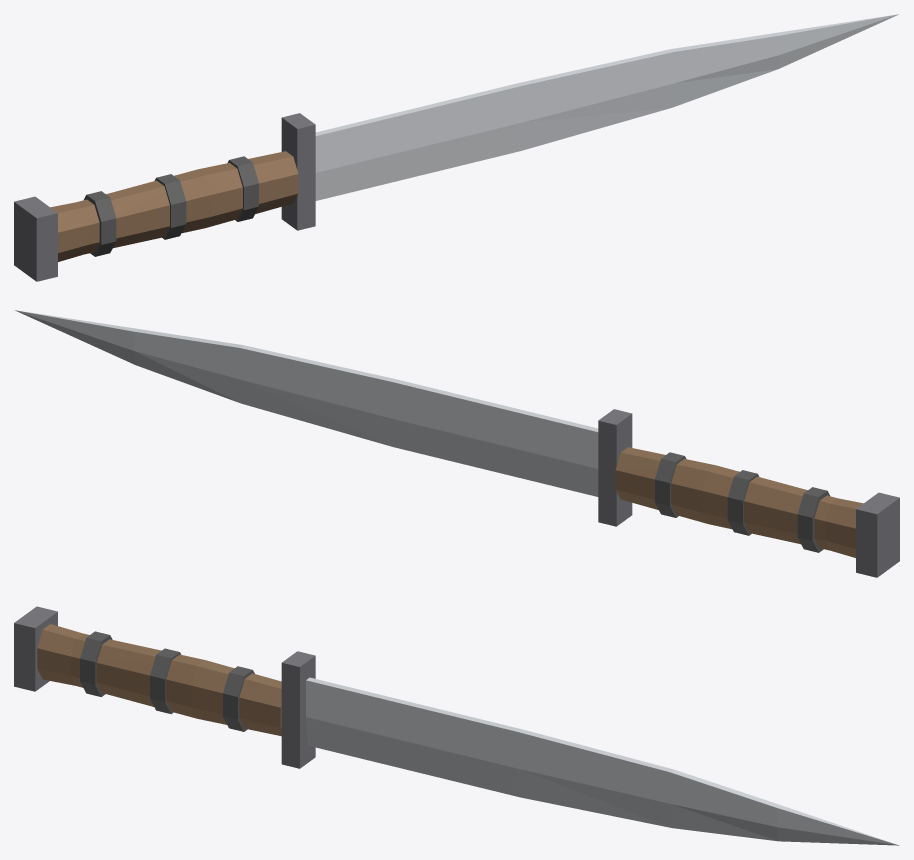
The model's file is knife.glb.
3 renders of one model, top to bottom at view 1: azimuth 30°, elevation 25°; view 2: azimuth 150°, elevation 25°; view 3: azimuth 330°, elevation 25°, orthographic.
Visible parts, largest first — view 1: blade, handle, pommel, guard, wrap2, wrap1, wrap0; view 2: blade, handle, pommel, guard, wrap2, wrap1, wrap0; view 3: blade, handle, guard, pommel, wrap2, wrap0, wrap1.
Part boxes in pixels (x1,y1,x2,y2): blade: (315,14,898,200); handle: (50,151,298,261); pommel: (14,196,57,281); guard: (281,113,315,230); wrap2: (84,191,116,256); wrap1: (154,174,186,239); wrap0: (227,156,258,221); blade: (15,310,598,496); handle: (615,447,863,557); pommel: (856,492,899,577); guard: (598,409,632,526); wrap2: (797,487,829,552); wrap1: (727,470,759,535); wrap0: (655,452,686,517); blade: (306,677,899,845); handle: (37,624,281,736); guard: (281,651,315,768); pommel: (14,606,57,691); wrap2: (80,631,112,696); wrap0: (223,666,254,731); wrap1: (150,648,181,714).
Bounding box in the file's own units: 0.288 × 0.032 × 0.013.
